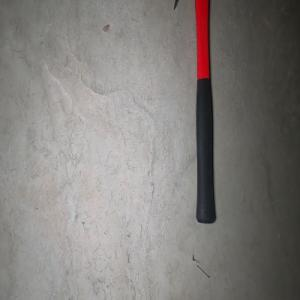Hammer: (172, 0, 231, 224)
